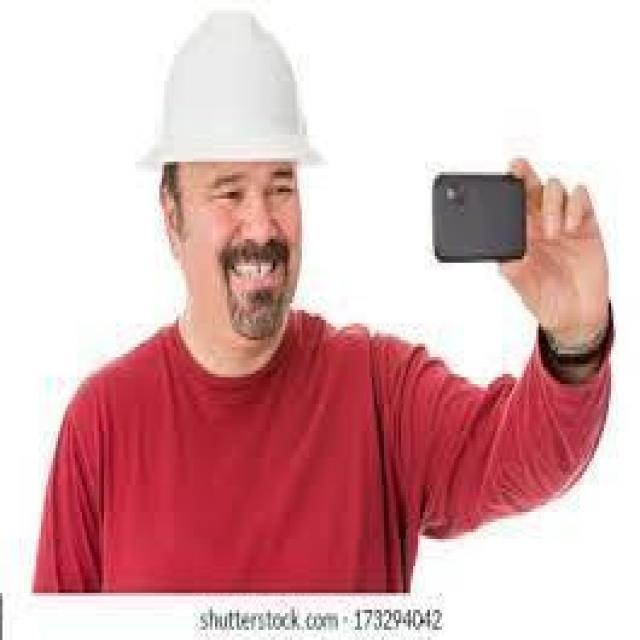hat: (132, 7, 328, 168)
